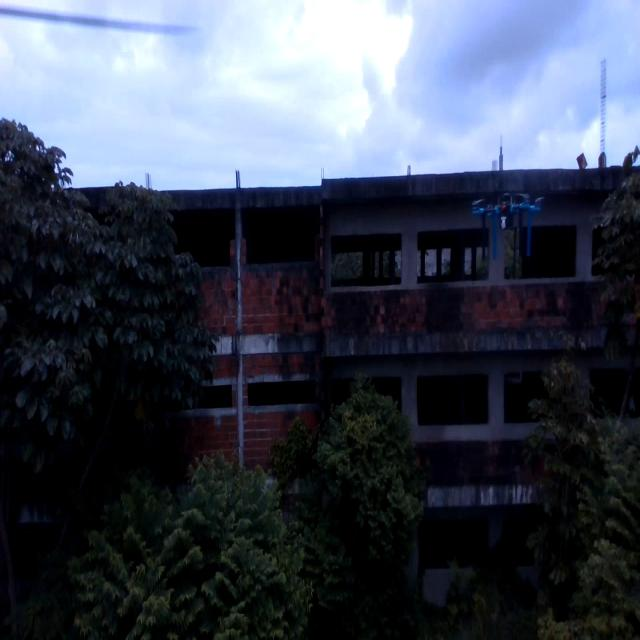-uav-: (469, 174, 540, 266)
